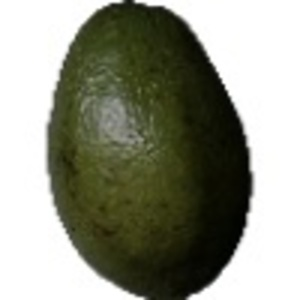abacate: (41, 1, 253, 298)
